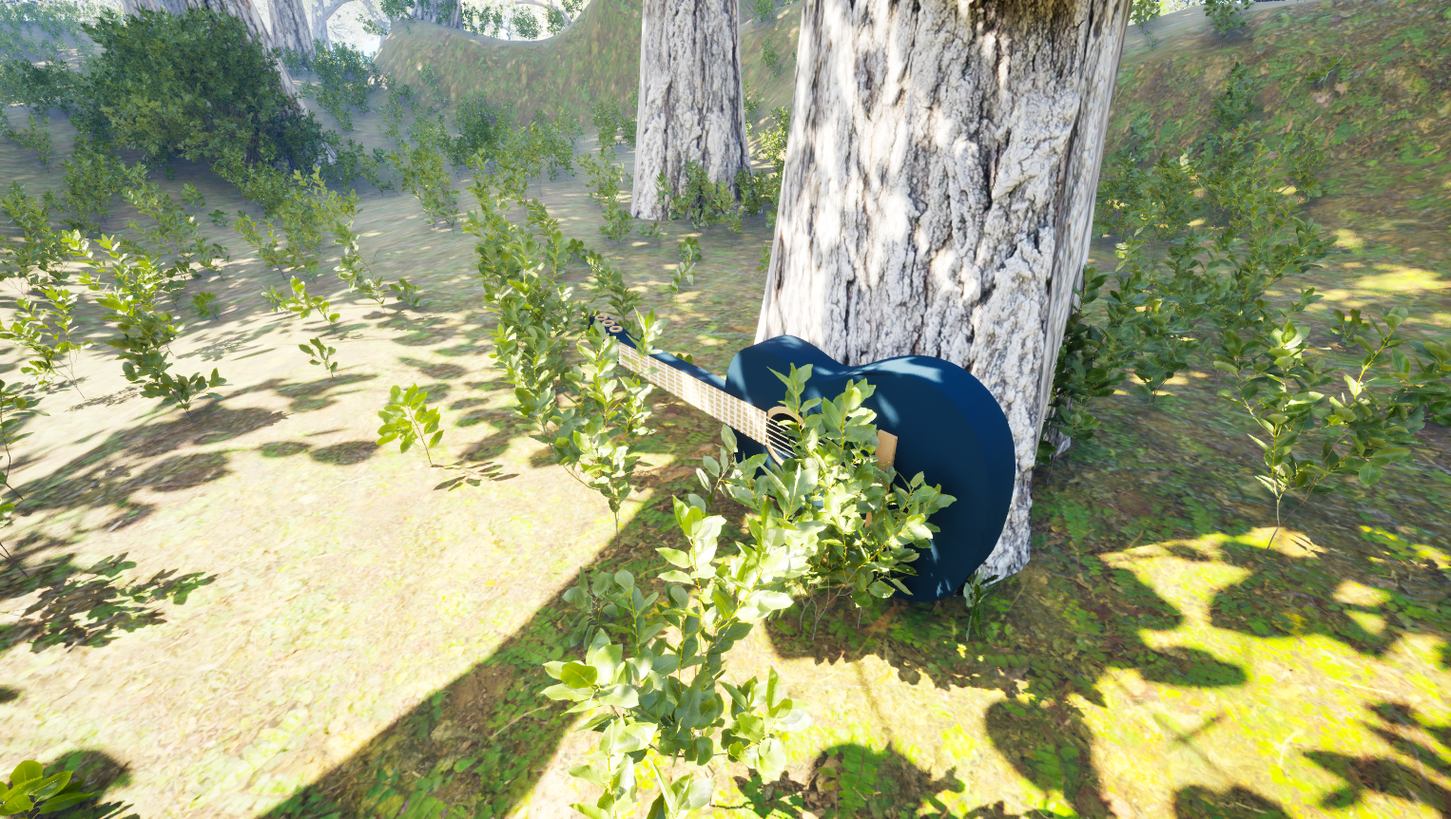Guitar: (568, 247, 1042, 641)
